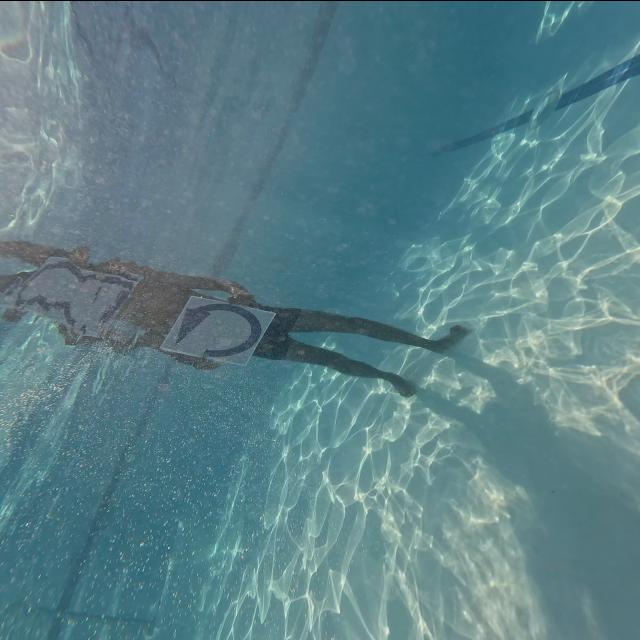blue_side: (156, 296, 284, 368)
